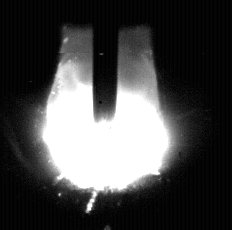arame: (94, 0, 117, 122)
poca: (42, 0, 169, 230)
